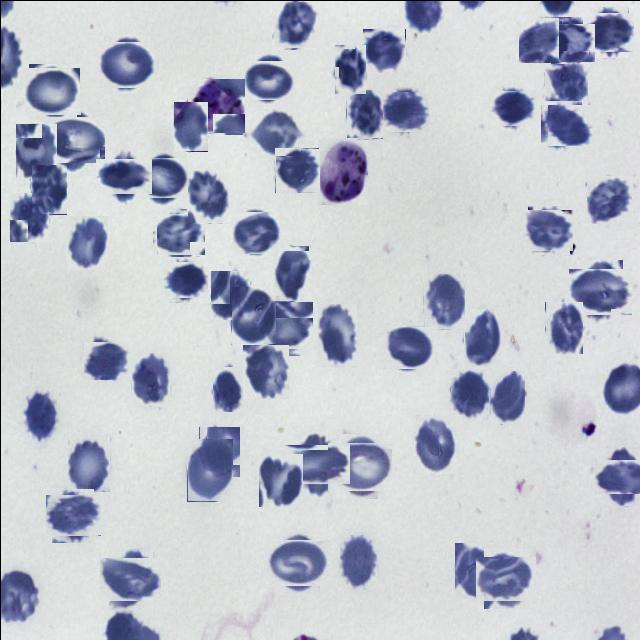red blood cell: (330, 437, 388, 494), (269, 534, 324, 590), (572, 264, 626, 318), (46, 112, 100, 166), (256, 298, 310, 352), (186, 438, 232, 501), (479, 552, 532, 604), (104, 552, 156, 604), (290, 438, 342, 490), (100, 38, 152, 89), (26, 65, 78, 116), (230, 286, 275, 344), (412, 414, 456, 473), (454, 542, 499, 598), (316, 303, 356, 366), (242, 344, 288, 398), (422, 273, 464, 329), (67, 434, 109, 490), (14, 123, 56, 179), (258, 453, 302, 506), (65, 215, 107, 270), (154, 210, 202, 258), (48, 491, 97, 538), (584, 175, 632, 222), (250, 110, 300, 155), (186, 170, 228, 223), (542, 101, 589, 148), (463, 308, 500, 366), (272, 245, 310, 301), (232, 208, 278, 254), (525, 206, 571, 252), (384, 324, 430, 370), (246, 56, 292, 102), (100, 153, 146, 199), (130, 352, 169, 406), (198, 426, 239, 477), (140, 154, 185, 200), (272, 1, 316, 48), (338, 534, 376, 588), (586, 8, 630, 54), (546, 20, 592, 64), (22, 389, 60, 442), (544, 301, 582, 354), (209, 270, 249, 320), (8, 192, 48, 242), (274, 147, 318, 192), (450, 368, 488, 419), (382, 89, 426, 133), (516, 18, 560, 61), (489, 370, 524, 424), (599, 453, 640, 499), (345, 88, 382, 138), (543, 63, 587, 105), (362, 28, 404, 72), (84, 338, 126, 381), (30, 164, 66, 214), (491, 87, 533, 129), (172, 101, 207, 151), (163, 258, 204, 300), (333, 44, 365, 94), (212, 366, 242, 411)
trophozoite: (317, 138, 367, 204), (187, 77, 243, 133)
